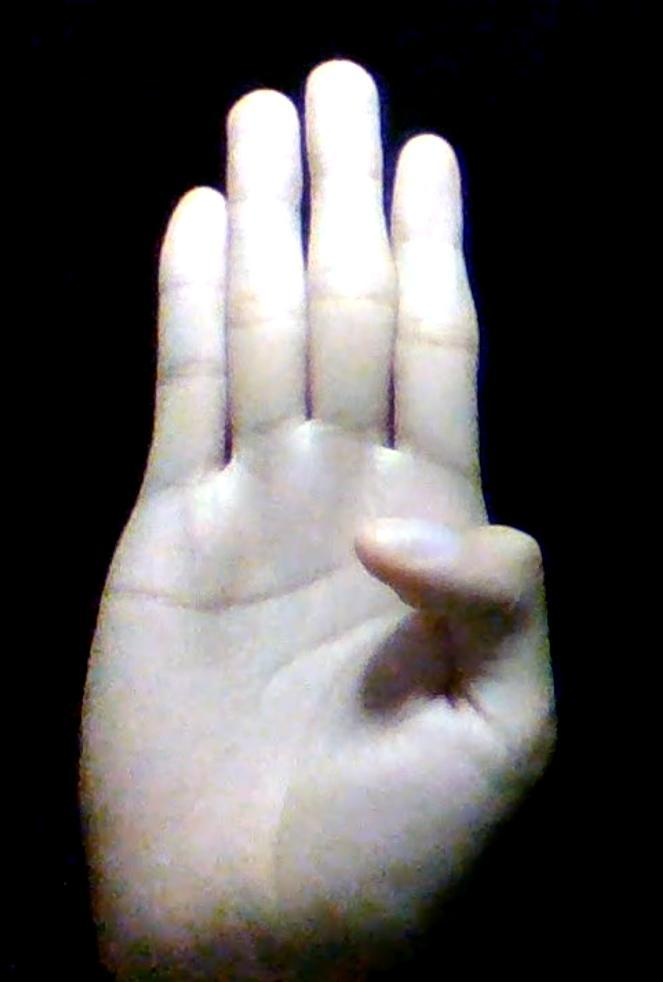b: (77, 58, 560, 982)
